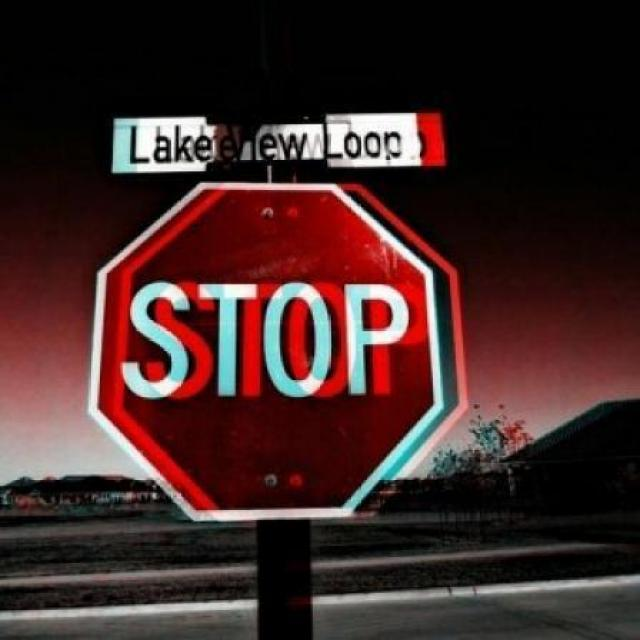stop_sign: (98, 186, 452, 530)
